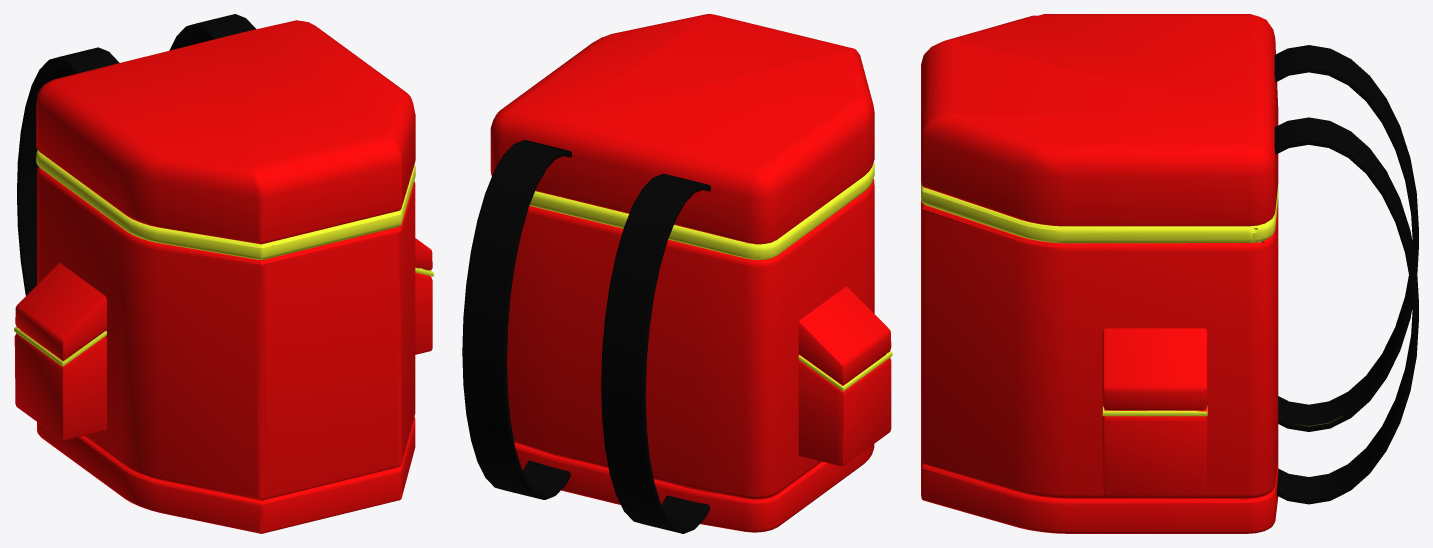
Rendered from Mochila.fbx.
3 renders of one model, left to right at view 1: azimuth 30°, elevation 25°; view 2: azimuth 150°, elevation 25°; view 3: azimuth 270°, elevation 25°, orthographic. The views are drawn at different scales.
Parts seen in each view (by area): view 1: cuerpo mochila, Tapa, Bolsillo, Suelo, Asa, Separacion tapa, Separacion bolsillo.001; view 2: cuerpo mochila, Tapa, Asa, Bolsillo, Suelo, Separacion tapa, Separacion bolsillo.001; view 3: cuerpo mochila, Tapa, Asa, Bolsillo, Suelo, Separacion tapa, Separacion bolsillo.001.
Part boxes in pixels (bbox=[...]): cuerpo mochila: bbox=[37, 166, 415, 500]; Tapa: bbox=[36, 20, 415, 244]; Bolsillo: bbox=[14, 238, 432, 440]; Suelo: bbox=[37, 417, 415, 533]; Asa: bbox=[17, 14, 255, 295]; Separacion tapa: bbox=[36, 149, 415, 260]; Separacion bolsillo.001: bbox=[14, 267, 433, 366]; cuerpo mochila: bbox=[507, 179, 874, 499]; Tapa: bbox=[490, 14, 874, 244]; Asa: bbox=[462, 140, 716, 533]; Bolsillo: bbox=[798, 286, 891, 465]; Suelo: bbox=[514, 443, 874, 532]; Separacion tapa: bbox=[529, 162, 874, 259]; Separacion bolsillo.001: bbox=[798, 351, 892, 391]; cuerpo mochila: bbox=[921, 200, 1278, 498]; Tapa: bbox=[921, 14, 1278, 226]; Asa: bbox=[1274, 45, 1418, 504]; Bolsillo: bbox=[1102, 328, 1207, 496]; Suelo: bbox=[921, 458, 1278, 533]; Separacion tapa: bbox=[921, 182, 1278, 243]; Separacion bolsillo.001: bbox=[1102, 405, 1207, 416].
Size of the model in its own units: 553 by 510 by 593.
